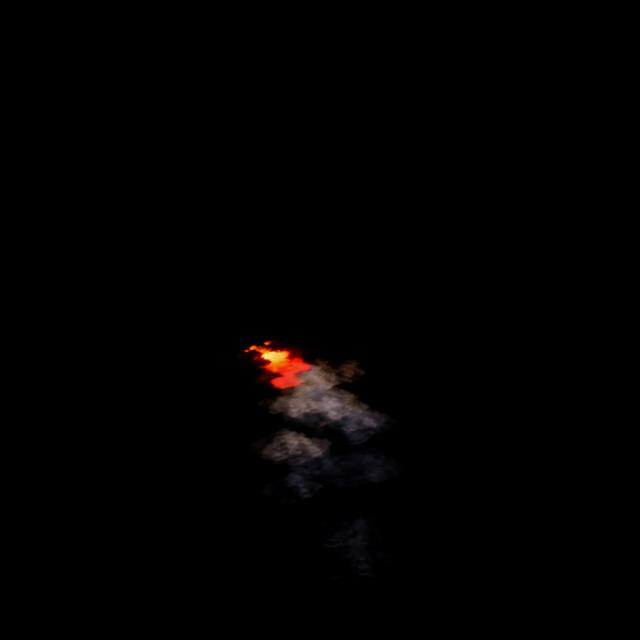fire: (236, 334, 310, 394)
smoke: (248, 358, 402, 590)
